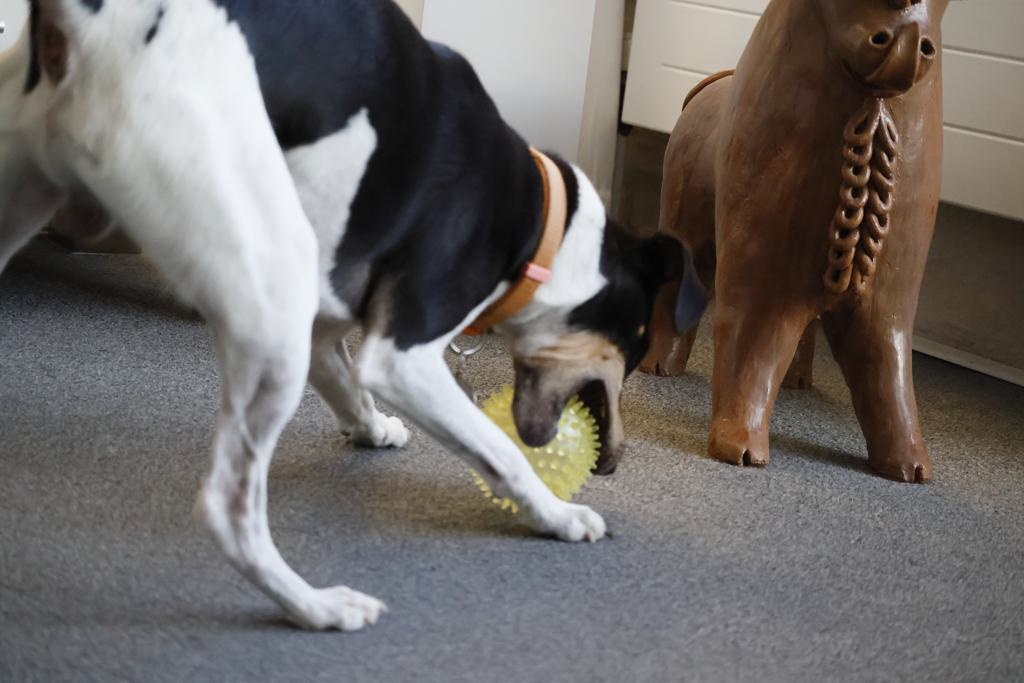Cattle: (611, 0, 977, 494)
Dog: (0, 0, 719, 646)
